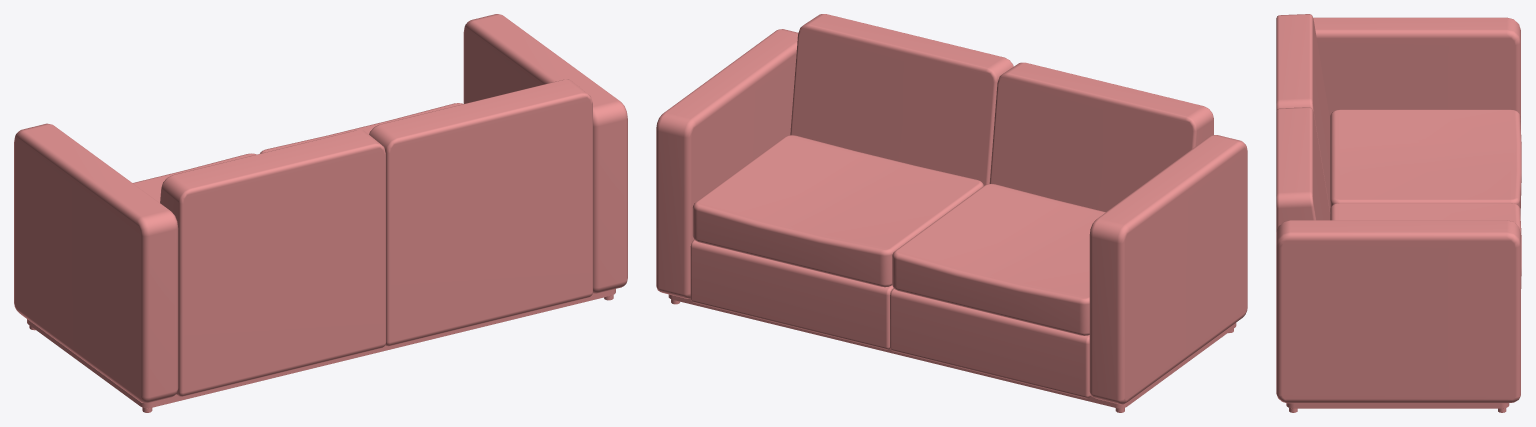
The model's file is sofa.fbx.
3 views of the same model, side by side, from view 1: azimuth 30°, elevation 25°; view 2: azimuth 150°, elevation 25°; view 3: azimuth 270°, elevation 25° (orthographic). The views are drawn at different scales.
Parts seen in each view (by area): view 1: sofa; view 2: sofa; view 3: sofa.
Boxes of the visible parts, box(x1,y1,x2,y2) form: sofa: box(14, 14, 627, 412); sofa: box(656, 14, 1247, 412); sofa: box(1276, 14, 1521, 412).
Size of the model in its own units: 209 by 90.97 by 99.18.
